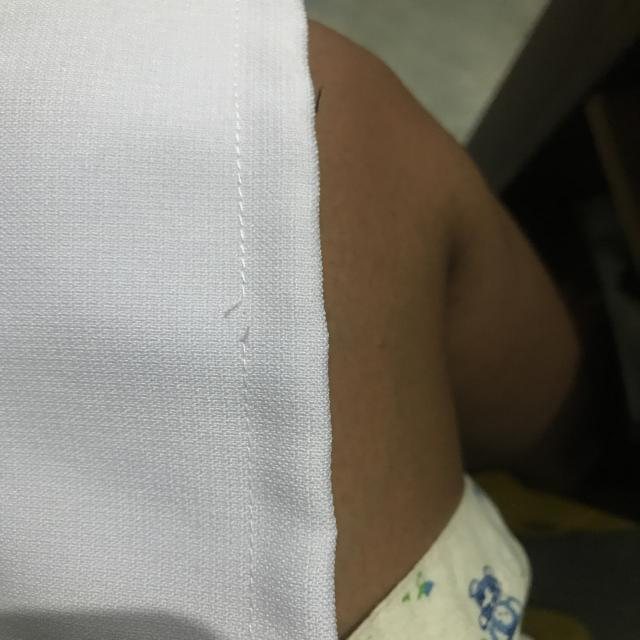broken: (218, 278, 278, 359)
